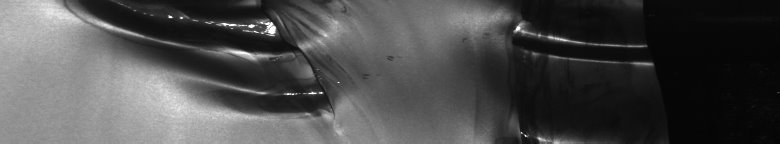ke: (63, 4, 394, 120)
